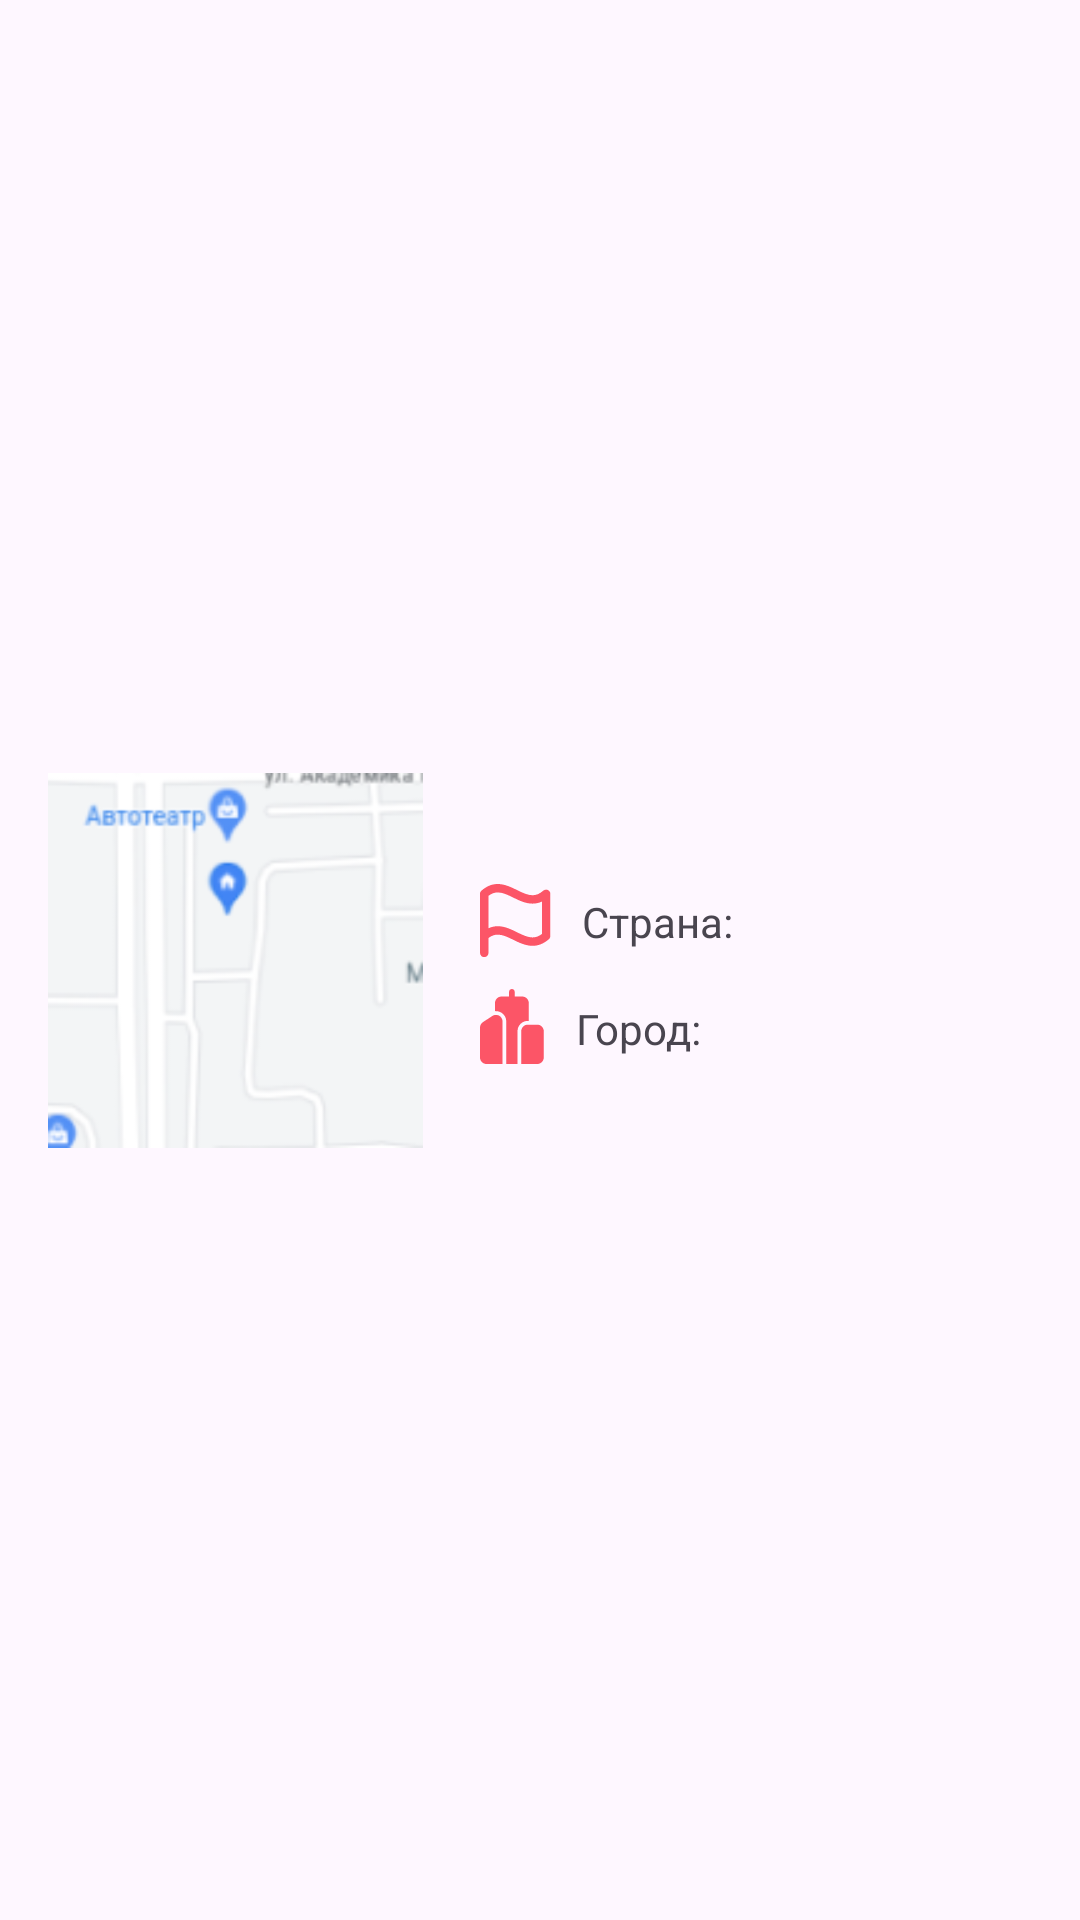

Locate icon controls on the screen. Image size 1080 × 1920, boxes as (x1=x1, y1=y1, x2=x2, y2=y2).
city: (x1=480, y1=989, x2=544, y2=1064)
flag: (x1=480, y1=884, x2=551, y2=957)
